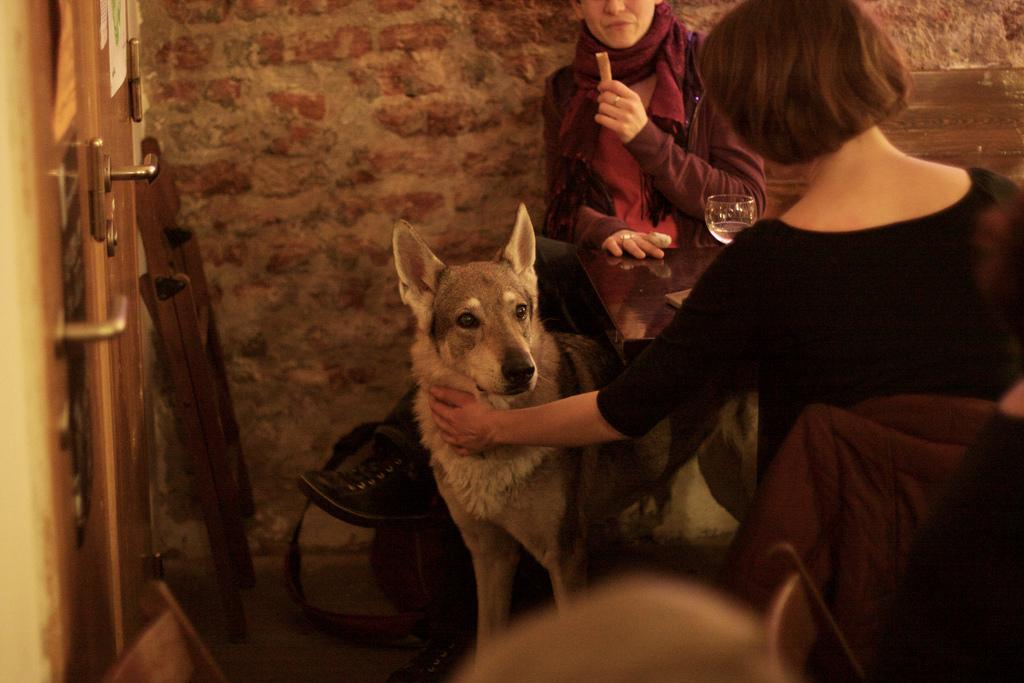Wolf: (389, 205, 614, 683)
